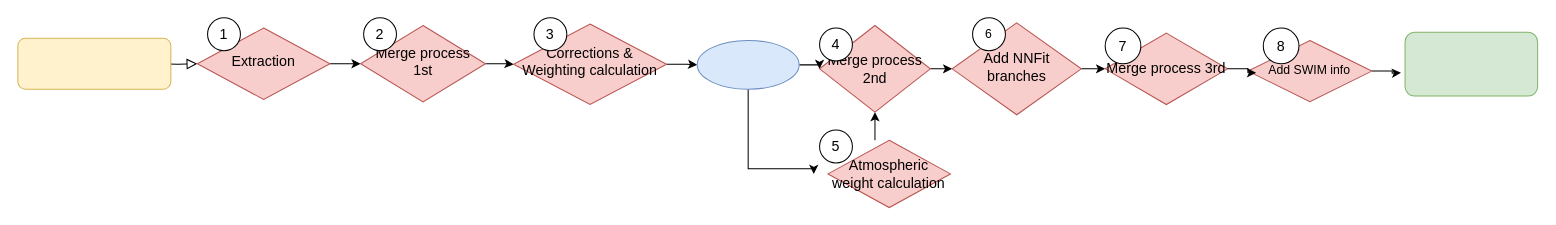
Image size: 1556x225. Some labels were removed from this diagram. The centre of each missing label's shape, as x and y in pixels:
AntDSTs: point 94,63
Is Neutrino: point 747,64
SWIM ROOT file: point 1471,63
